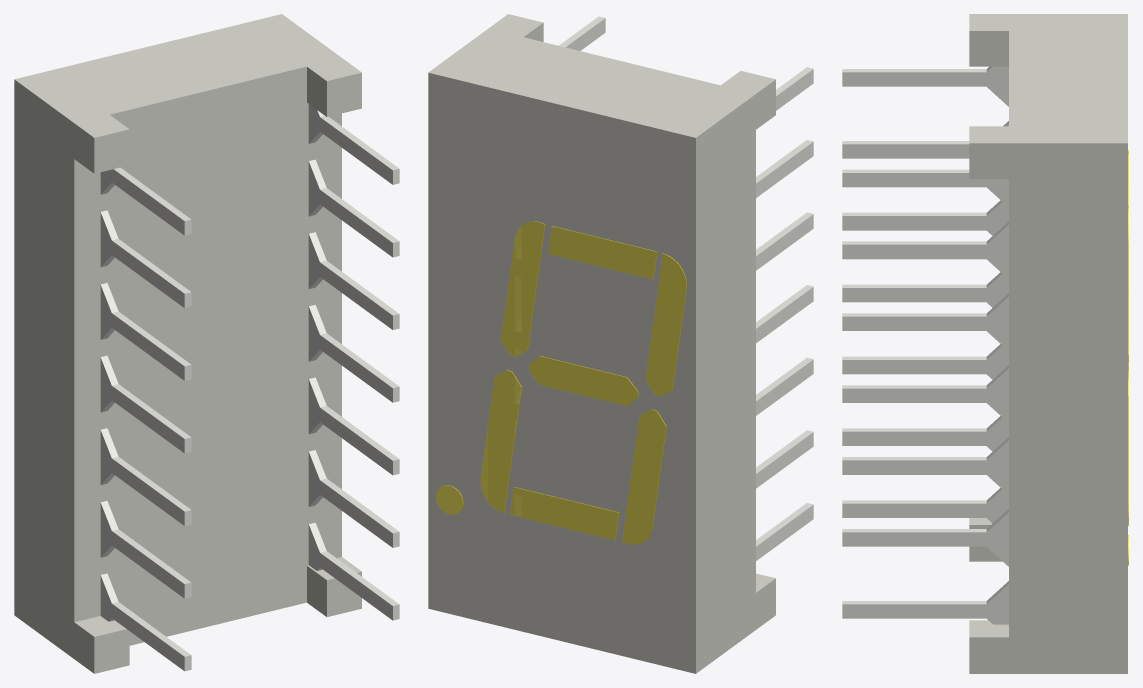
Rendered from MAN3820A.glb.
The picture shows the model from 3 angles, left to right: view 1: azimuth 30°, elevation 25°; view 2: azimuth 150°, elevation 25°; view 3: azimuth 270°, elevation 25°; orthographic projection.
Visible parts, largest first — view 1: Shape_IndexedFaceSet.010, Shape_IndexedFaceSet.006, Shape_IndexedFaceSet, Shape_IndexedFaceSet.012, Shape_IndexedFaceSet.065, Shape_IndexedFaceSet.003, Shape_IndexedFaceSet.069, Shape_IndexedFaceSet.014, Shape_IndexedFaceSet.005, Shape_IndexedFaceSet.001, Shape_IndexedFaceSet.194, Shape_IndexedFaceSet.213 (+16 smaller); view 2: Shape_IndexedFaceSet.007, Shape_IndexedFaceSet.006, Shape_IndexedFaceSet, Shape_IndexedFaceSet.129, Shape_IndexedFaceSet.133, Shape_IndexedFaceSet.135, Shape_IndexedFaceSet.130, Shape_IndexedFaceSet.128, Shape_IndexedFaceSet.134, Shape_IndexedFaceSet.131, Shape_IndexedFaceSet.205, Shape_IndexedFaceSet.194 (+6 smaller); view 3: Shape_IndexedFaceSet.008, Shape_IndexedFaceSet, Shape_IndexedFaceSet.239, Shape_IndexedFaceSet.243, Shape_IndexedFaceSet.196, Shape_IndexedFaceSet.211, Shape_IndexedFaceSet.225, Shape_IndexedFaceSet.199, Shape_IndexedFaceSet.203, Shape_IndexedFaceSet.207, Shape_IndexedFaceSet.232, Shape_IndexedFaceSet.191 (+21 smaller).
Part boxes in pixels (bbox=[...]): Shape_IndexedFaceSet.010: bbox=[109, 102, 306, 608]; Shape_IndexedFaceSet.006: bbox=[14, 79, 94, 673]; Shape_IndexedFaceSet: bbox=[15, 14, 361, 137]; Shape_IndexedFaceSet.012: bbox=[74, 159, 109, 622]; Shape_IndexedFaceSet.065: bbox=[307, 103, 341, 565]; Shape_IndexedFaceSet.003: bbox=[110, 66, 306, 145]; Shape_IndexedFaceSet.069: bbox=[129, 565, 306, 645]; Shape_IndexedFaceSet.014: bbox=[94, 629, 129, 673]; Shape_IndexedFaceSet.005: bbox=[94, 129, 129, 173]; Shape_IndexedFaceSet.001: bbox=[327, 72, 361, 116]; Shape_IndexedFaceSet.194: bbox=[112, 604, 184, 670]; Shape_IndexedFaceSet.213: bbox=[112, 241, 184, 307]; Shape_IndexedFaceSet.007: bbox=[428, 72, 695, 673]; Shape_IndexedFaceSet.006: bbox=[696, 79, 775, 673]; Shape_IndexedFaceSet: bbox=[428, 14, 775, 137]; Shape_IndexedFaceSet.129: bbox=[645, 254, 686, 396]; Shape_IndexedFaceSet.133: bbox=[480, 370, 521, 512]; Shape_IndexedFaceSet.135: bbox=[622, 409, 666, 544]; Shape_IndexedFaceSet.130: bbox=[500, 221, 544, 356]; Shape_IndexedFaceSet.128: bbox=[548, 226, 656, 279]; Shape_IndexedFaceSet.134: bbox=[509, 487, 618, 540]; Shape_IndexedFaceSet.131: bbox=[528, 356, 637, 405]; Shape_IndexedFaceSet.205: bbox=[756, 287, 813, 343]; Shape_IndexedFaceSet.194: bbox=[756, 505, 813, 560]; Shape_IndexedFaceSet.008: bbox=[969, 143, 1127, 673]; Shape_IndexedFaceSet: bbox=[969, 14, 1127, 143]; Shape_IndexedFaceSet.239: bbox=[842, 244, 986, 259]; Shape_IndexedFaceSet.243: bbox=[842, 316, 986, 330]; Shape_IndexedFaceSet.196: bbox=[842, 503, 985, 517]; Shape_IndexedFaceSet.211: bbox=[842, 431, 986, 445]; Shape_IndexedFaceSet.225: bbox=[842, 388, 985, 402]; Shape_IndexedFaceSet.199: bbox=[842, 216, 986, 230]; Shape_IndexedFaceSet.203: bbox=[842, 360, 985, 374]; Shape_IndexedFaceSet.207: bbox=[842, 288, 986, 302]; Shape_IndexedFaceSet.232: bbox=[842, 460, 986, 474]; Shape_IndexedFaceSet.191: bbox=[842, 72, 986, 86].
Size of the model in its own units: 3.86 by 7.38 by 3.61.
